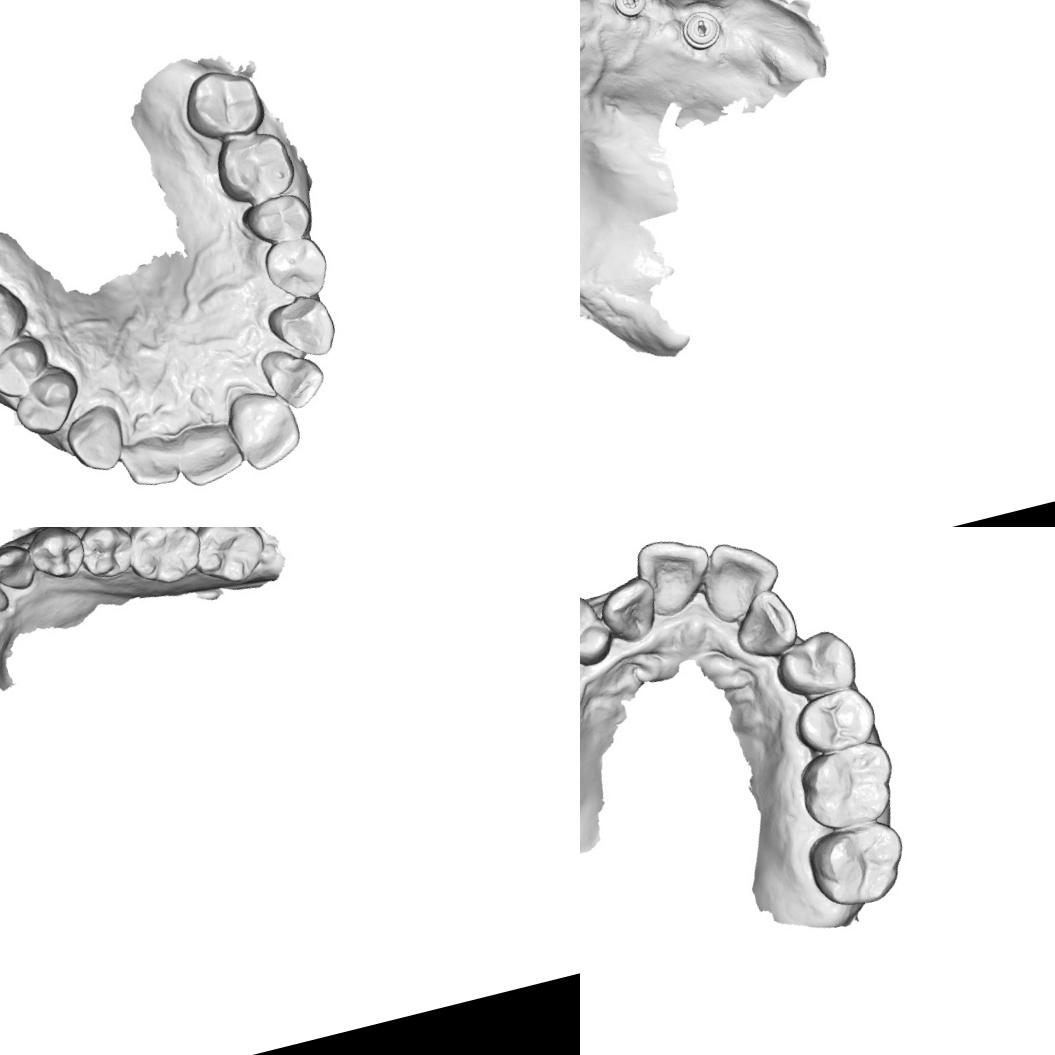canine: (262, 289, 341, 366), (60, 400, 132, 478), (0, 536, 39, 598)
implant_minus: (676, 5, 725, 54)
implant_plus: (607, 0, 650, 22)
incisor: (691, 528, 790, 626), (630, 528, 722, 626), (221, 381, 306, 476), (724, 583, 804, 663), (170, 415, 248, 491), (594, 572, 666, 649), (256, 340, 328, 414), (118, 430, 182, 493)
molar: (800, 813, 917, 916), (790, 734, 904, 837), (176, 60, 269, 147), (207, 123, 300, 209), (118, 527, 212, 594), (183, 527, 274, 593), (0, 271, 36, 371)
premolar: (768, 624, 863, 704), (787, 681, 880, 760), (5, 362, 88, 442), (259, 230, 334, 306), (238, 188, 317, 252), (21, 527, 90, 588), (0, 331, 54, 402), (74, 527, 139, 584), (580, 582, 614, 674)
